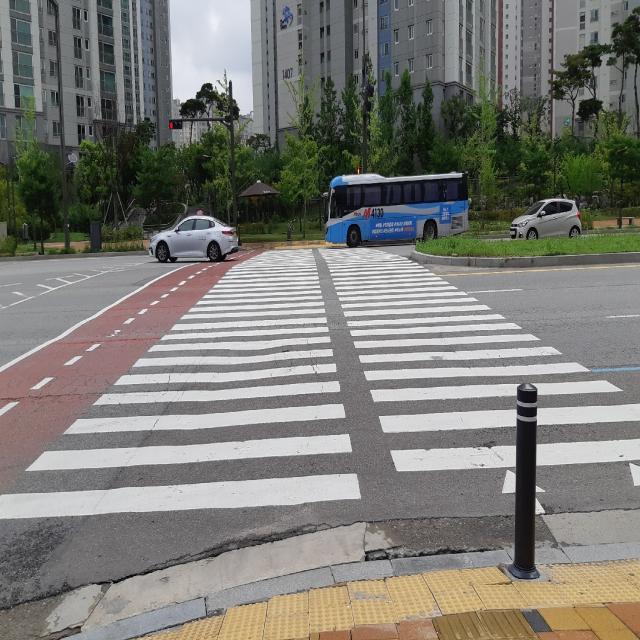횡단보도: (0, 245, 640, 524)
